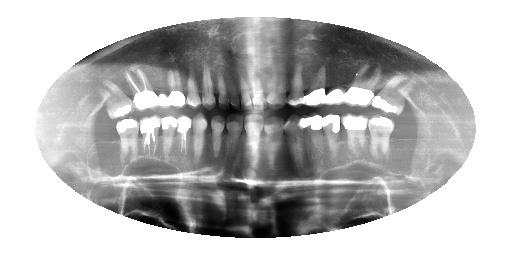i10healthy: (206, 106, 227, 176)
i11healthy: (189, 110, 210, 172)
i12healthy: (173, 111, 194, 168)
i13healthy: (155, 110, 181, 171)
i14healthy: (137, 114, 163, 164)
i15healthy: (113, 116, 142, 165)
i2healthy: (365, 108, 396, 165)
i3healthy: (338, 108, 369, 166)
i4healthy: (319, 105, 344, 165)
i5healthy: (299, 107, 328, 173)
i6decay: (280, 109, 307, 172)
i7healthy: (262, 112, 287, 176)
i8healthy: (239, 106, 266, 178)
i9healthy: (219, 109, 245, 176)
u10healthy: (212, 53, 232, 110)
u11healthy: (196, 54, 217, 112)
u12healthy: (181, 56, 204, 111)
u13healthy: (167, 55, 187, 114)
u14loss: (153, 72, 172, 109)
u15healthy: (122, 68, 160, 112)
u16healthy: (95, 77, 137, 121)
u1healthy: (368, 72, 417, 120)
u2healthy: (342, 57, 384, 112)
u3loss: (321, 68, 351, 110)
u4healthy: (301, 57, 328, 112)
u5healthy: (287, 57, 307, 108)
u6healthy: (263, 52, 288, 111)
u7healthy: (247, 54, 268, 112)
u8healthy: (237, 62, 252, 113)
u9healthy: (225, 56, 243, 112)
